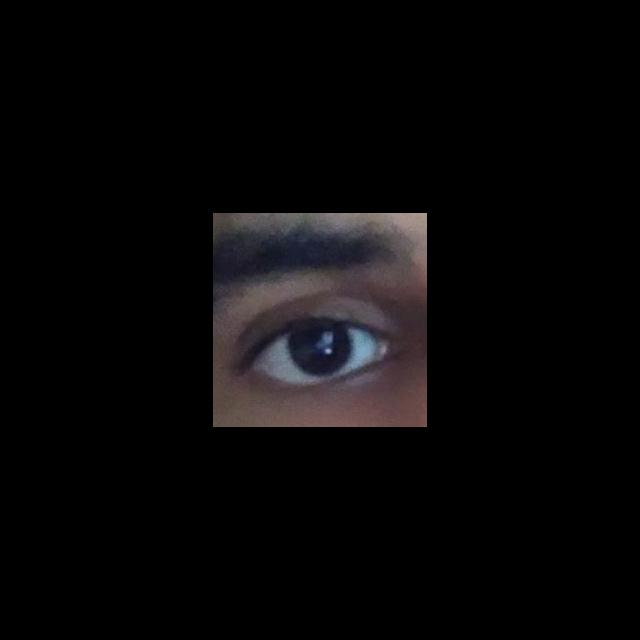eye: (252, 321, 378, 387)
iris: (287, 326, 353, 376)
